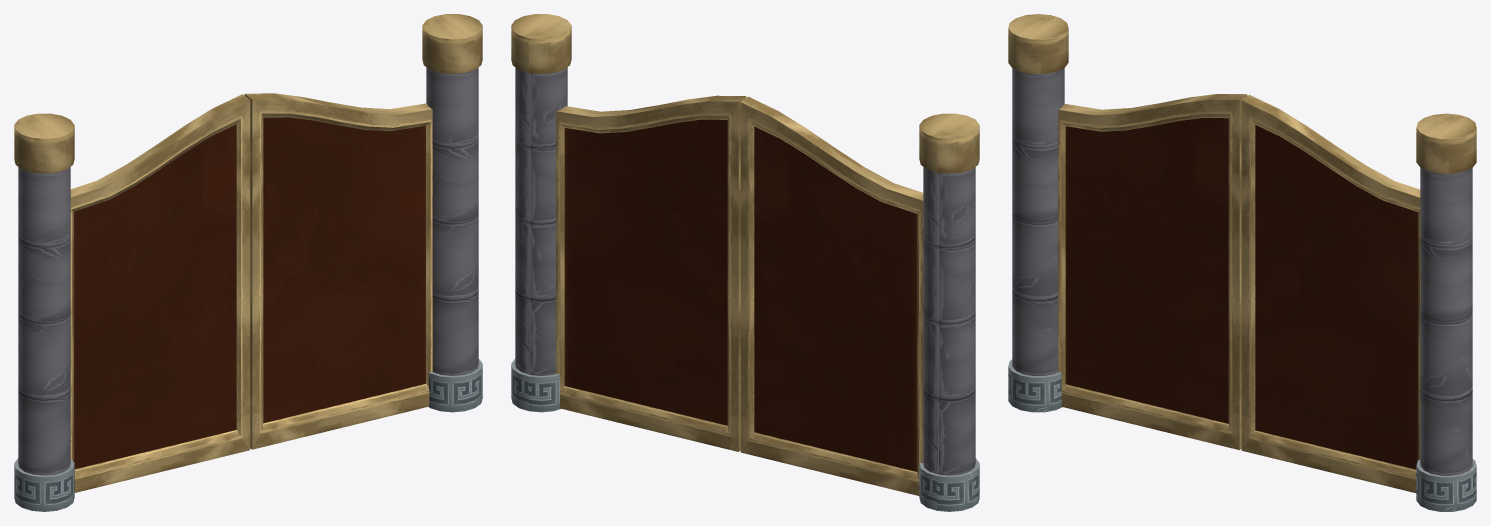
File: Leo_std_Door.fbx
3 renders of one model, left to right at view 1: azimuth 30°, elevation 25°; view 2: azimuth 150°, elevation 25°; view 3: azimuth 330°, elevation 25°, orthographic.
Parts seen in each view (by area): view 1: polySurface4, polySurface3, pCylinder1, pCylinder2; view 2: polySurface4, polySurface3, pCylinder1, pCylinder2; view 3: polySurface4, polySurface3, pCylinder2, pCylinder1.
Boxes of the visible parts, <box> form: polySurface4: <box>70,94,250,492</box>; polySurface3: <box>244,93,432,449</box>; pCylinder1: <box>14,113,74,511</box>; pCylinder2: <box>422,14,482,412</box>; polySurface4: <box>740,96,923,495</box>; polySurface3: <box>556,95,746,451</box>; pCylinder1: <box>919,113,979,511</box>; pCylinder2: <box>511,14,571,412</box>; polySurface4: <box>1058,94,1247,450</box>; polySurface3: <box>1241,94,1420,492</box>; pCylinder2: <box>1416,113,1476,511</box>; pCylinder1: <box>1008,14,1068,412</box>.
Size of the model in its own units: 660 by 511 by 74.76.
